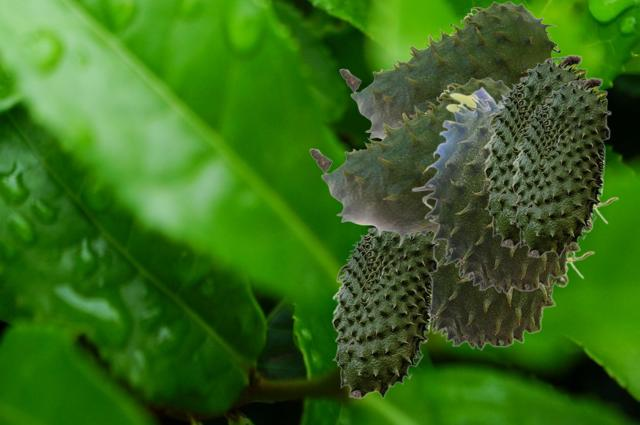guyabano: (411, 86, 618, 294), (309, 77, 511, 245), (339, 1, 560, 139), (483, 54, 587, 247), (331, 227, 438, 398), (431, 240, 594, 350), (511, 77, 610, 257)
